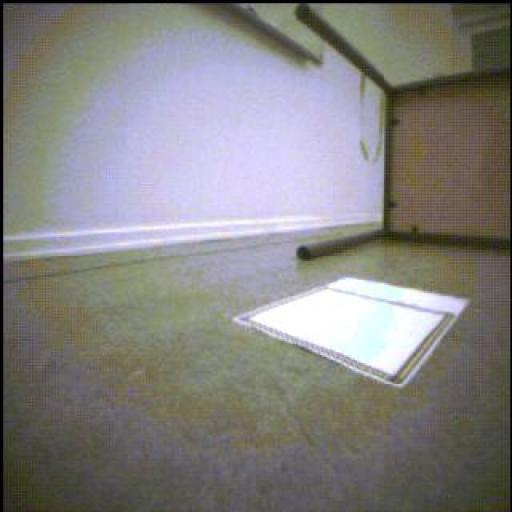Pad: (236, 278, 470, 388)
